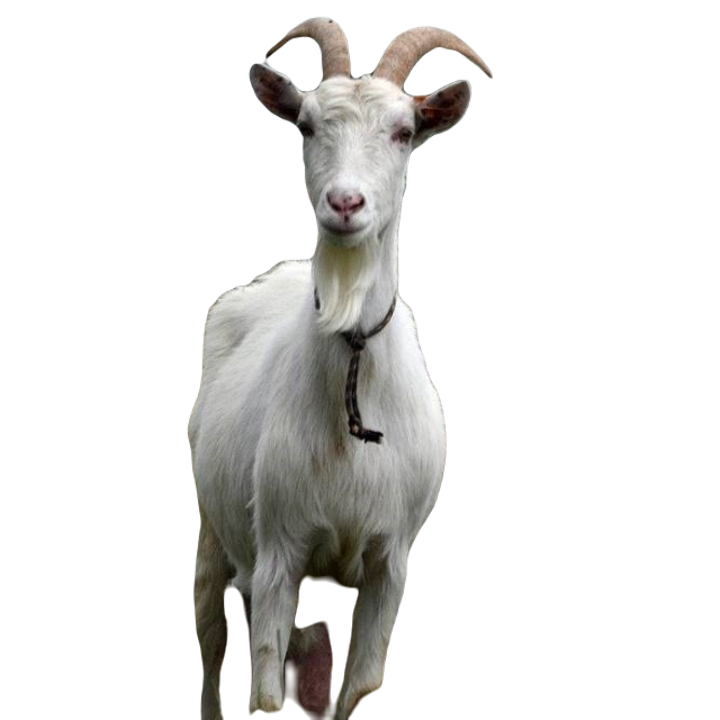Goat: (185, 20, 495, 719)
